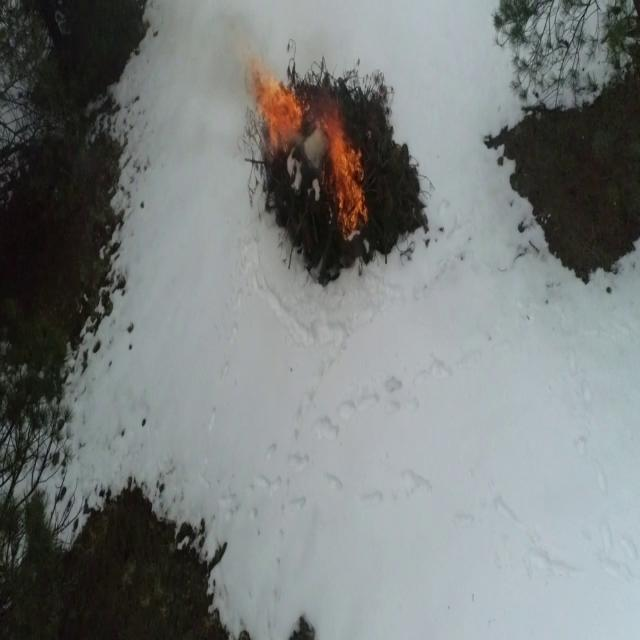fire: (327, 120, 366, 231), (254, 71, 302, 152)
